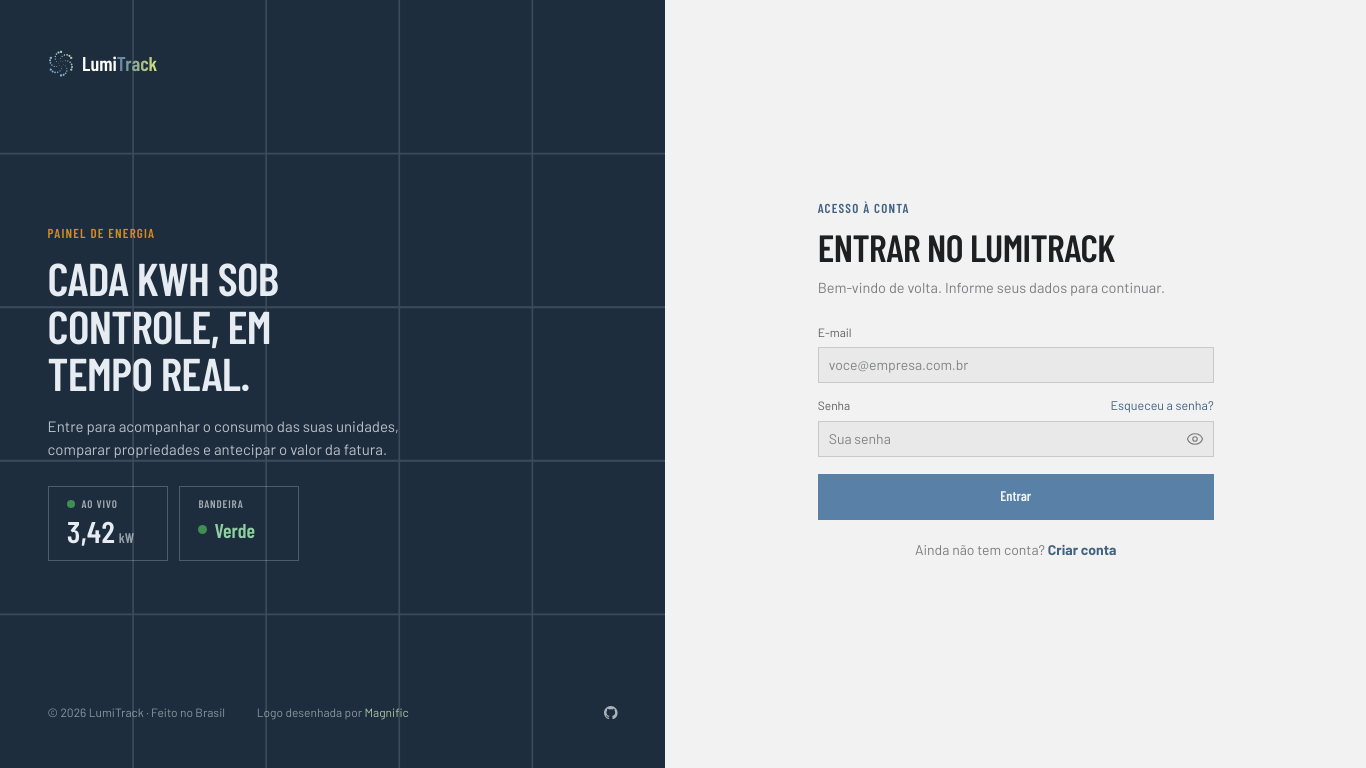
Test: LoginPage — validação client-side › mostra erro quando email está vazio
Click the button "Entrar" at (1016, 497), box x1=818 y1=474 x2=1214 y2=520
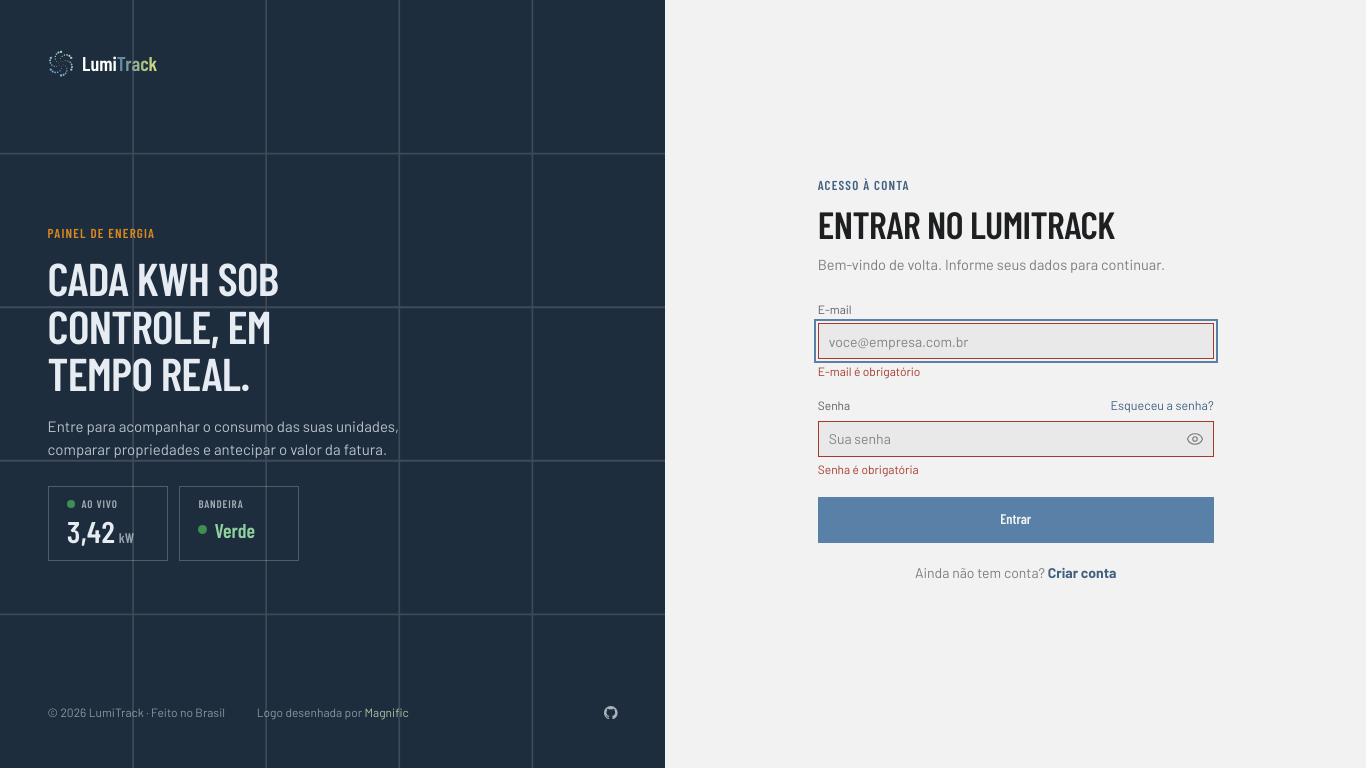
Now the text "E-mail é obrigatório" is shown, box x1=818 y1=364 x2=920 y2=378
